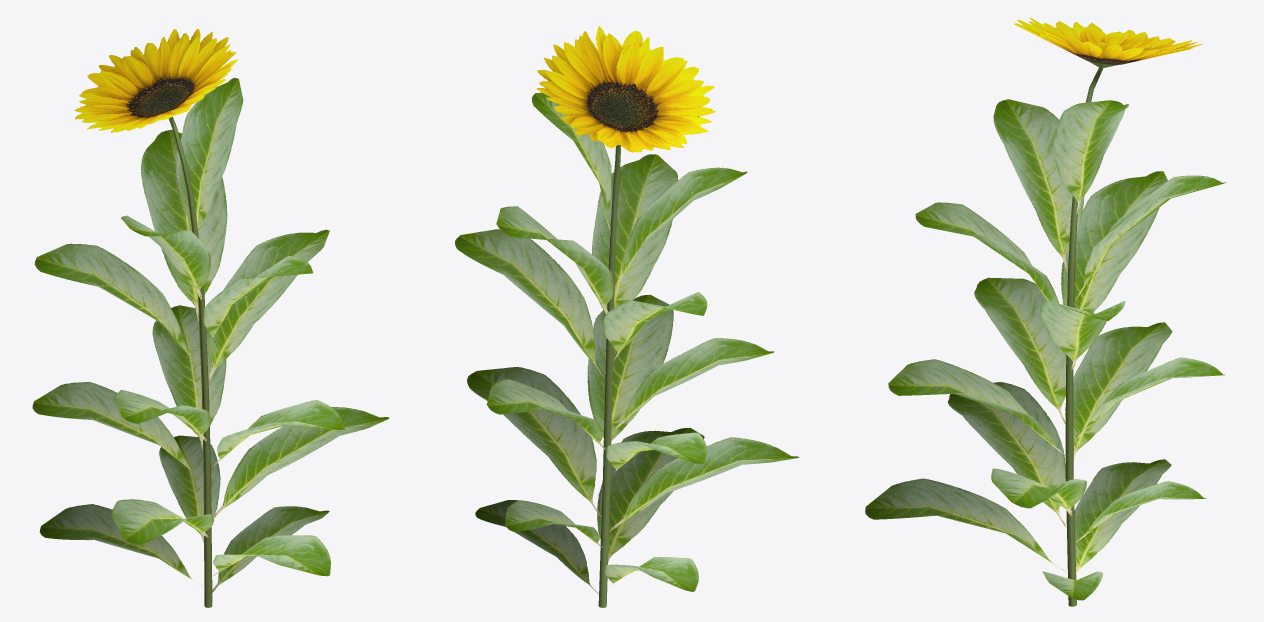
The model's file is SM_Plant_13.fbx.
3 renders of one model, left to right at view 1: azimuth 30°, elevation 25°; view 2: azimuth 150°, elevation 25°; view 3: azimuth 270°, elevation 25°, orthographic. The views are drawn at different scales.
Visible parts, largest first — view 1: SM_Plant_13; view 2: SM_Plant_13; view 3: SM_Plant_13.
Boxes of the visible parts, <box> form: SM_Plant_13: <box>32,29,389,607</box>; SM_Plant_13: <box>455,26,799,607</box>; SM_Plant_13: <box>865,17,1226,606</box>.
Size of the model in its own units: 70.27 by 71.14 by 116.
3 materials, 3 textured.
